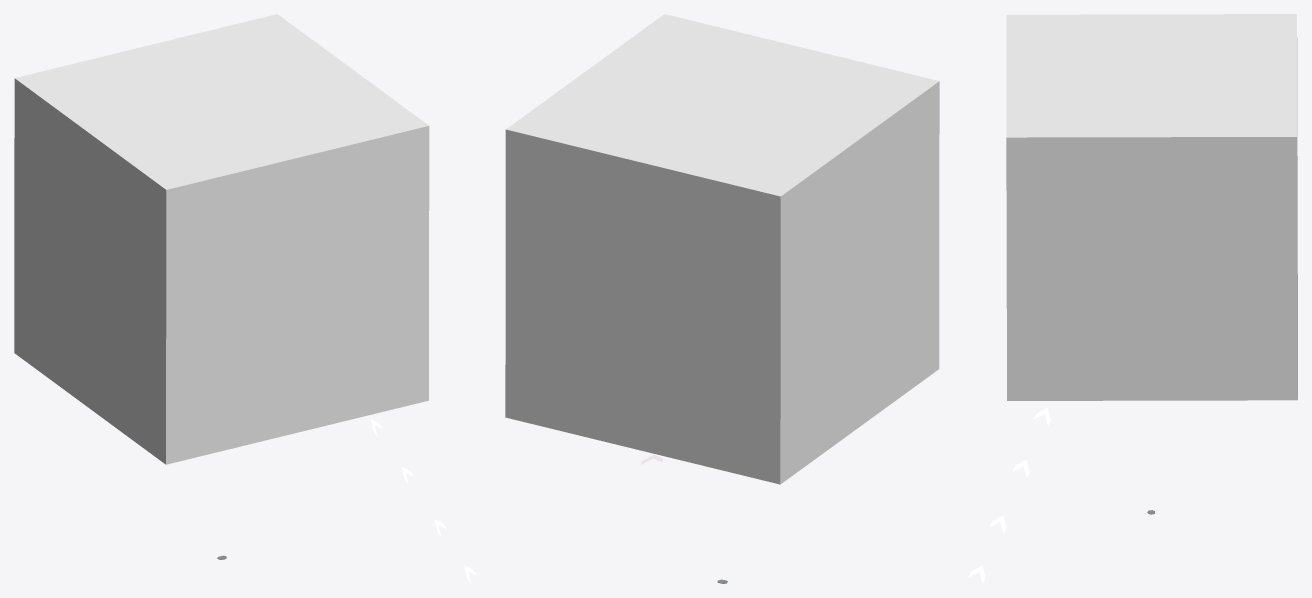
The model's file is white_cube_2.glb.
3 views of the same model, side by side, from view 1: azimuth 30°, elevation 25°; view 2: azimuth 150°, elevation 25°; view 3: azimuth 270°, elevation 25° (orthographic). The views are drawn at different scales.
Parts seen in each view (by area): view 1: White cube; view 2: White cube; view 3: White cube.
Boxes of the visible parts, bbox=[...] form: White cube: bbox=[14, 14, 429, 464]; White cube: bbox=[505, 14, 939, 484]; White cube: bbox=[1006, 14, 1297, 400].
Size of what is drawn, in the model's own units: 13.6 by 19.9 by 13.61.
Materials: 3 (1 with a texture image).
